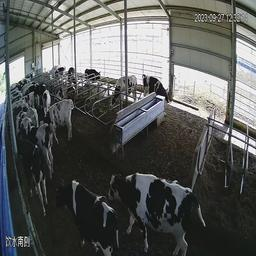cow: (73, 154, 162, 253), (35, 166, 106, 256), (15, 135, 50, 219), (19, 121, 54, 175), (45, 99, 77, 145), (107, 73, 139, 113), (159, 75, 181, 127), (81, 73, 104, 103), (93, 64, 110, 90), (51, 82, 68, 106), (41, 85, 50, 125), (53, 64, 67, 83), (67, 63, 78, 81)
